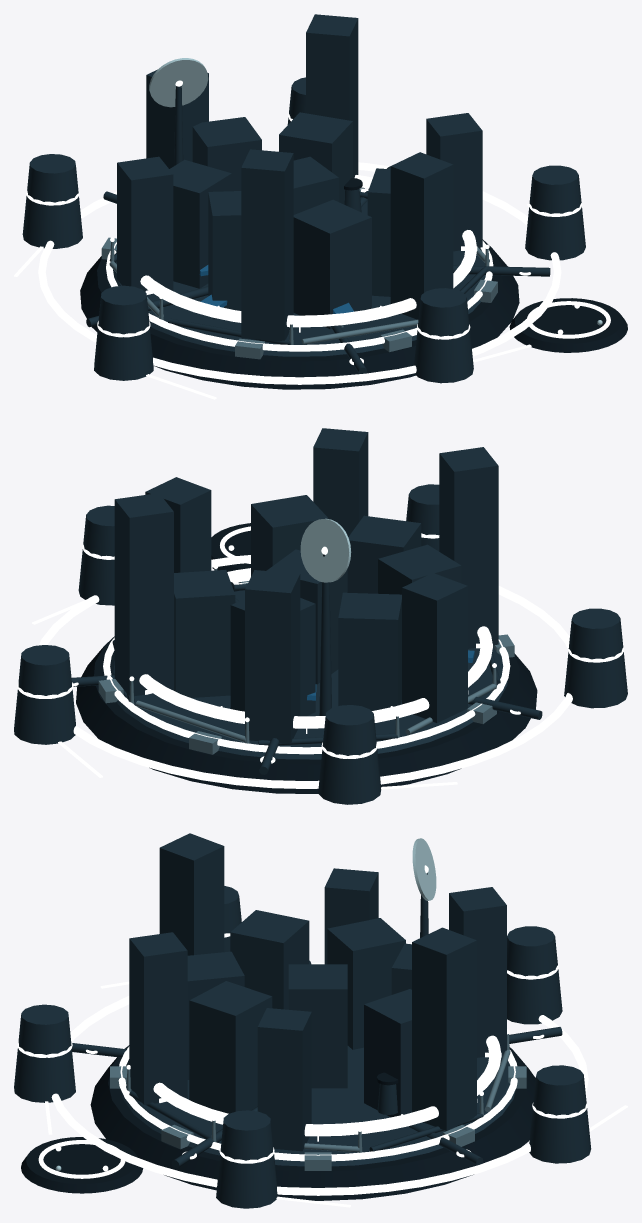
File: metalStorage-stage3.glb
3 renders of one model, top to bottom at view 1: azimuth 30°, elevation 25°; view 2: azimuth 150°, elevation 25°; view 3: azimuth 270°, elevation 25°, orthographic. The views are drawn at different scales.
Parts seen in each view (by area): view 1: metal-vault (×7), armored-foundation, mega-vault-2, mega-vault-1, mega-vault-3, mega-vault-5, district-grid-2, upper-deck, mega-vault-0, refinery-annex-0, refinery-annex-4, refinery-annex-1 (+12 smaller); view 2: metal-vault (×7), armored-foundation, mega-vault-5, mega-vault-4, mega-vault-2, mega-vault-3, upper-deck, district-grid-2, refinery-annex-2, refinery-annex-1, refinery-annex-3, mega-vault-1 (+11 smaller); view 3: metal-vault (×7), armored-foundation, mega-vault-5, mega-vault-1, upper-deck, mega-vault-2, mega-vault-0, mega-vault-4, district-grid-2, refinery-annex-3, refinery-annex-4, refinery-annex-0 (+14 smaller).
Part boxes in pixels (<box>): metal-vault (×7): <box>169,112,390,329</box>; armored-foundation: <box>80,239,519,389</box>; mega-vault-2: <box>241,149,293,341</box>; mega-vault-1: <box>390,152,453,319</box>; mega-vault-3: <box>117,156,173,294</box>; mega-vault-5: <box>306,14,358,177</box>; district-grid-2: <box>38,162,561,384</box>; upper-deck: <box>108,201,491,356</box>; mega-vault-0: <box>426,113,482,251</box>; refinery-annex-0: <box>414,288,473,383</box>; refinery-annex-4: <box>525,165,585,260</box>; refinery-annex-1: <box>94,285,153,380</box>; metal-vault (×7): <box>174,495,461,719</box>; armored-foundation: <box>76,590,537,793</box>; mega-vault-5: <box>114,493,173,696</box>; mega-vault-4: <box>245,570,300,743</box>; mega-vault-2: <box>439,447,498,648</box>; mega-vault-3: <box>402,573,467,722</box>; upper-deck: <box>110,590,507,759</box>; district-grid-2: <box>38,555,572,788</box>; refinery-annex-2: <box>318,705,381,804</box>; refinery-annex-1: <box>564,608,627,708</box>; refinery-annex-3: <box>14,645,75,744</box>; mega-vault-1: <box>313,428,368,536</box>; metal-vault (×7): <box>187,910,411,1117</box>; armored-foundation: <box>90,1045,535,1200</box>; mega-vault-5: <box>412,927,476,1130</box>; mega-vault-1: <box>129,932,187,1104</box>; upper-deck: <box>120,1046,515,1166</box>; mega-vault-2: <box>159,833,224,955</box>; mega-vault-0: <box>257,1008,311,1151</box>; mega-vault-4: <box>449,887,506,1057</box>; district-grid-2: <box>51,962,588,1195</box>; refinery-annex-3: <box>529,1065,591,1163</box>; refinery-annex-4: <box>216,1110,277,1208</box>; refinery-annex-0: <box>14,1004,75,1102</box>.
Bounding box in the file's own units: 14.03 × 5.92 × 14.45.
